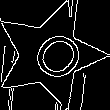O_SW: (15, 22, 83, 88)
